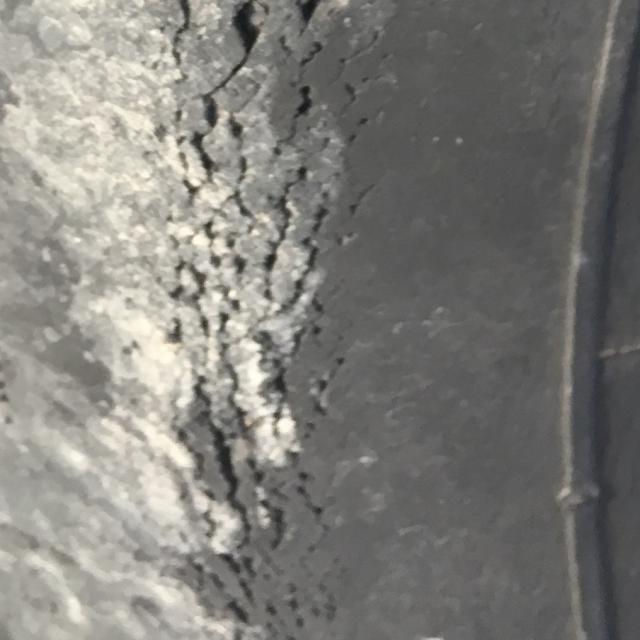Cracks: (0, 0, 418, 639)
Non-defective: (439, 0, 640, 640)
